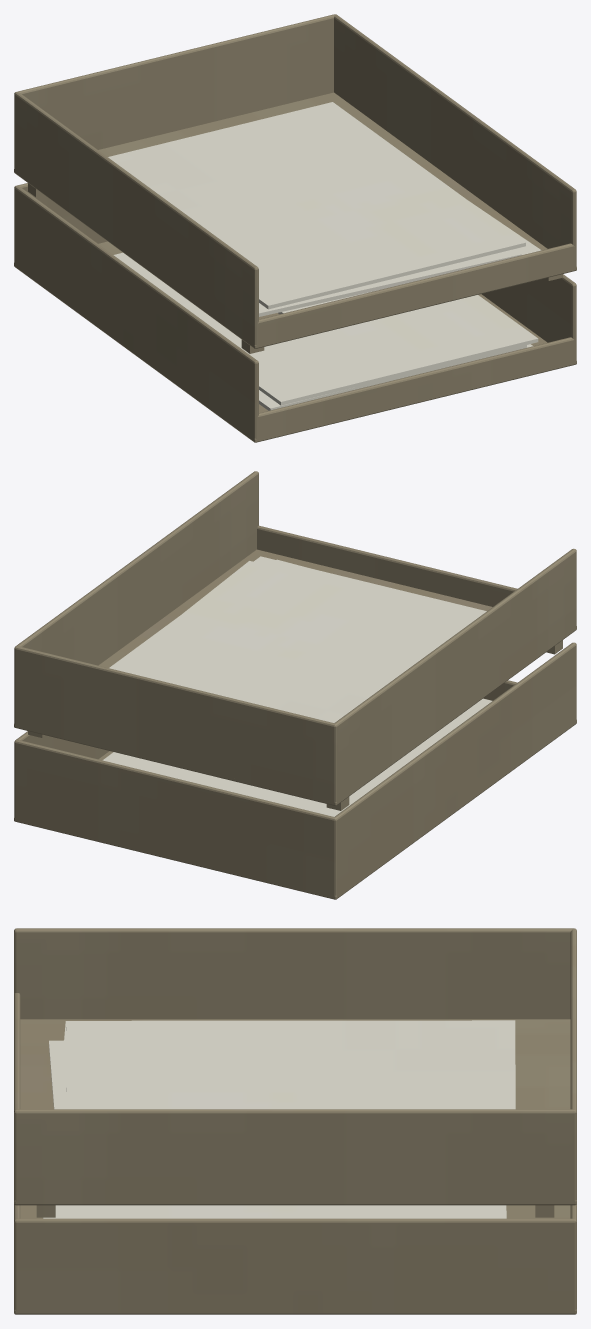
File: letter-tray.glb
3 renders of one model, top to bottom at view 1: azimuth 30°, elevation 25°; view 2: azimuth 150°, elevation 25°; view 3: azimuth 270°, elevation 25°, orthographic. The views are drawn at different scales.
Visible parts, largest first — view 1: letter_tray_2; view 2: letter_tray_2; view 3: letter_tray_2.
Part boxes in pixels (box(x1,y1,x2,y2)): letter_tray_2: box(14, 14, 576, 442); letter_tray_2: box(14, 471, 576, 899); letter_tray_2: box(14, 928, 576, 1314).
Size of the model in its own units: 0.27 by 0.14 by 0.35.
Materials: 2 (2 with a texture image).
